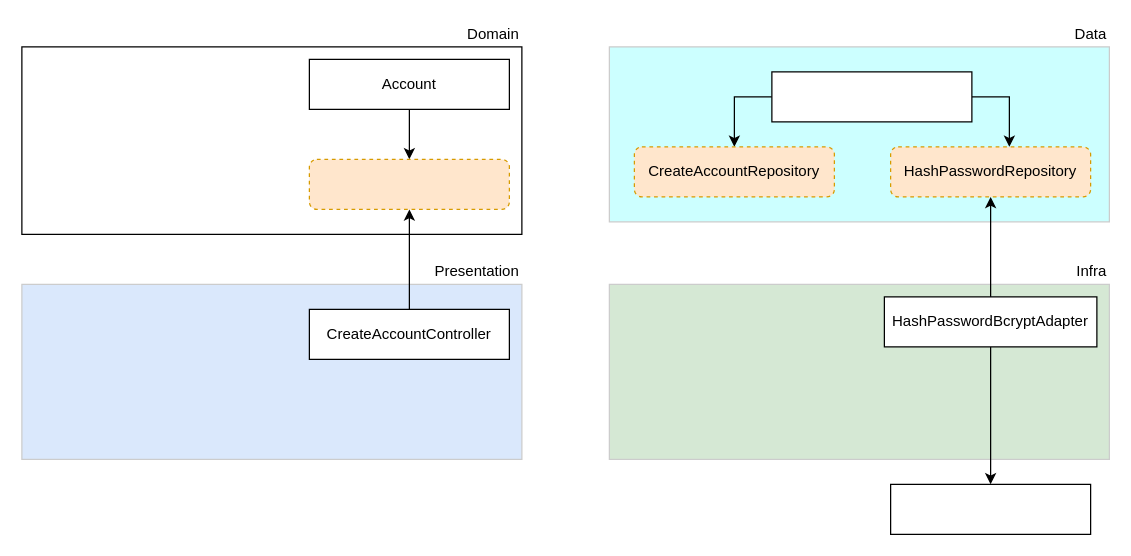
This 1131x556 diagram has some shape labels left out. The centre of each missing label's shape, as x and y in pixels:
bcrypt: [990,508]
CreateAccount: [408,183]
MemoryCreateAccount: [871,96]
